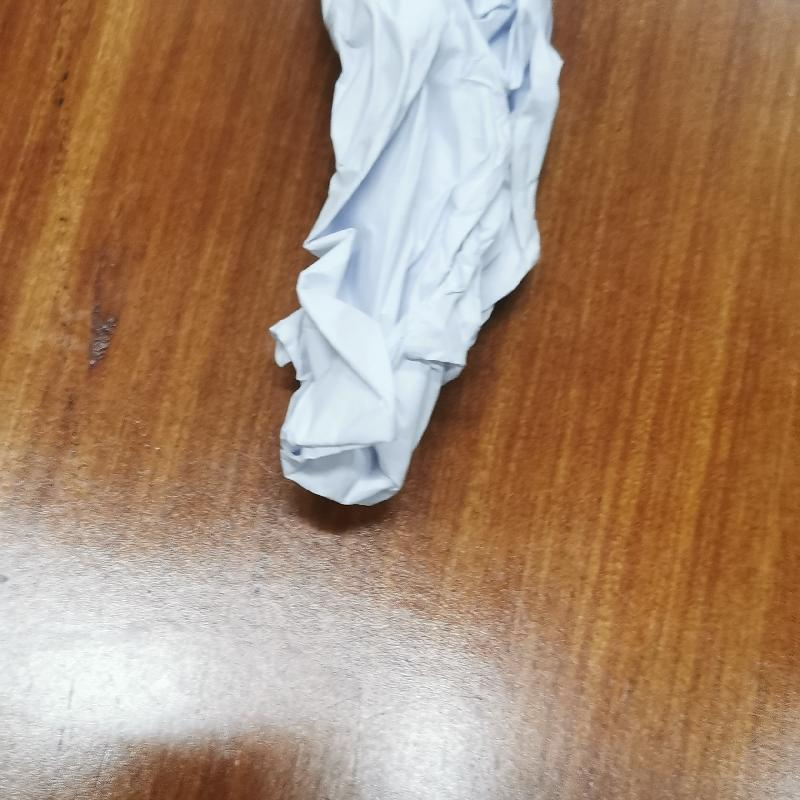spitball: (266, 3, 563, 515)
